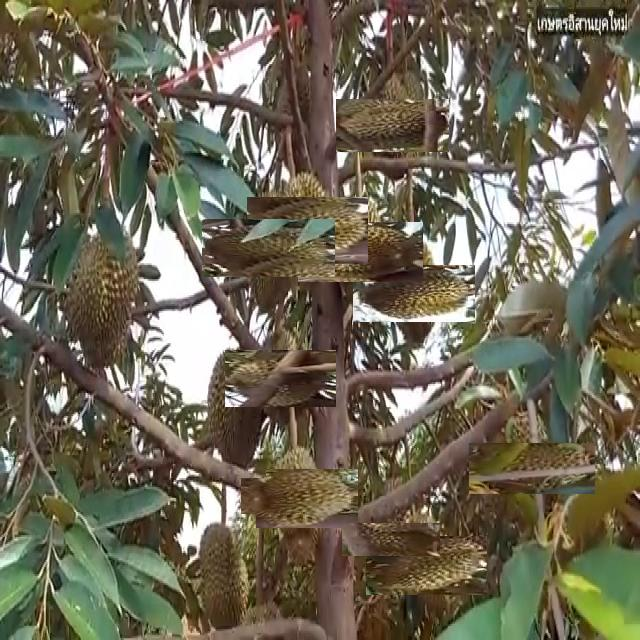durian: (64, 229, 142, 384), (220, 200, 316, 296), (260, 184, 355, 278), (200, 344, 266, 478), (314, 205, 407, 298), (381, 521, 472, 611), (368, 249, 459, 338), (255, 454, 344, 544), (487, 424, 576, 513), (194, 514, 256, 631), (239, 336, 323, 421), (351, 84, 435, 167), (358, 507, 424, 572)
